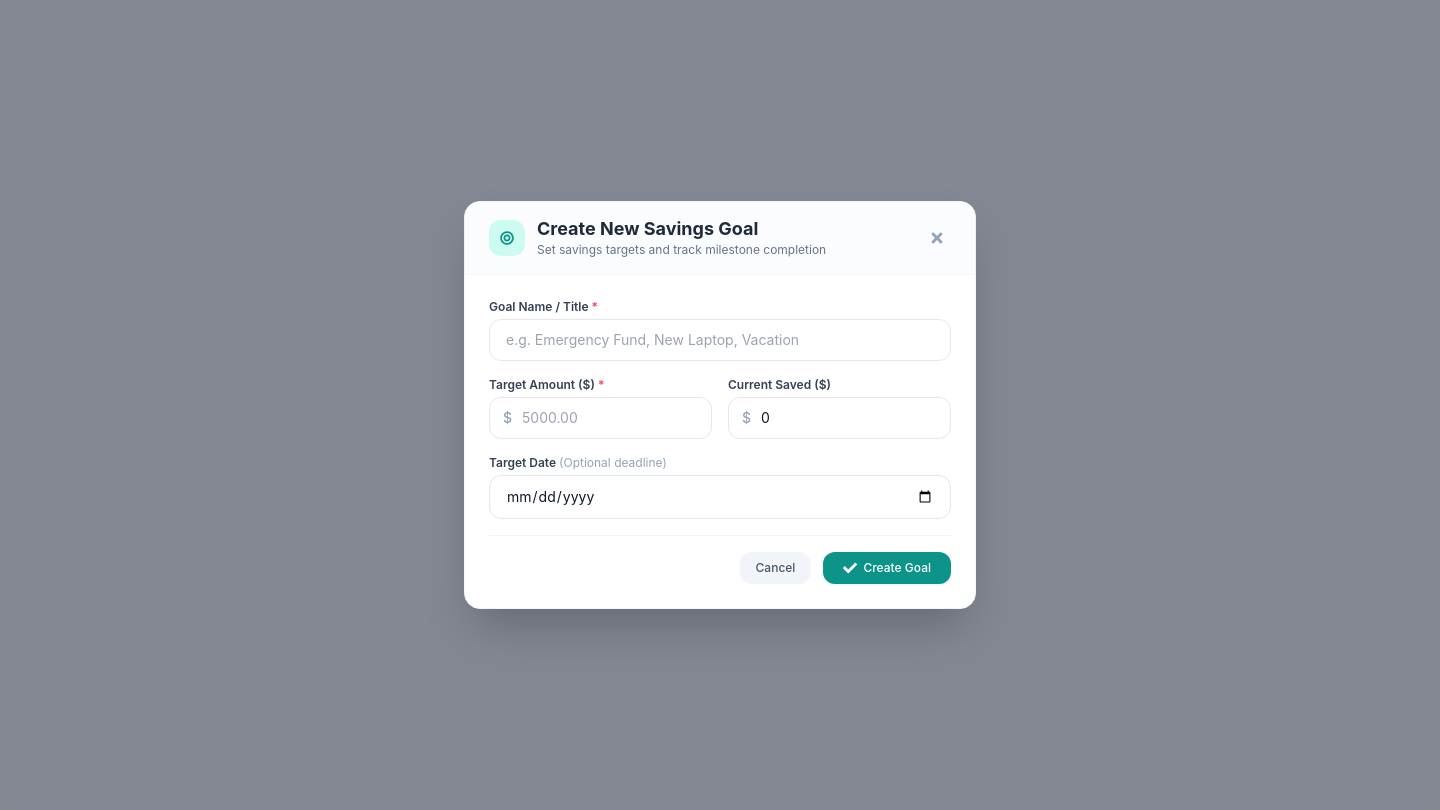
Test case: GoalModal Component › displays server error message when API call fails
The image size is (1440, 810).
Type "Duplicate Goal" into the field with test id "goal-title-input" at (720, 340), box [489,319,951,361]
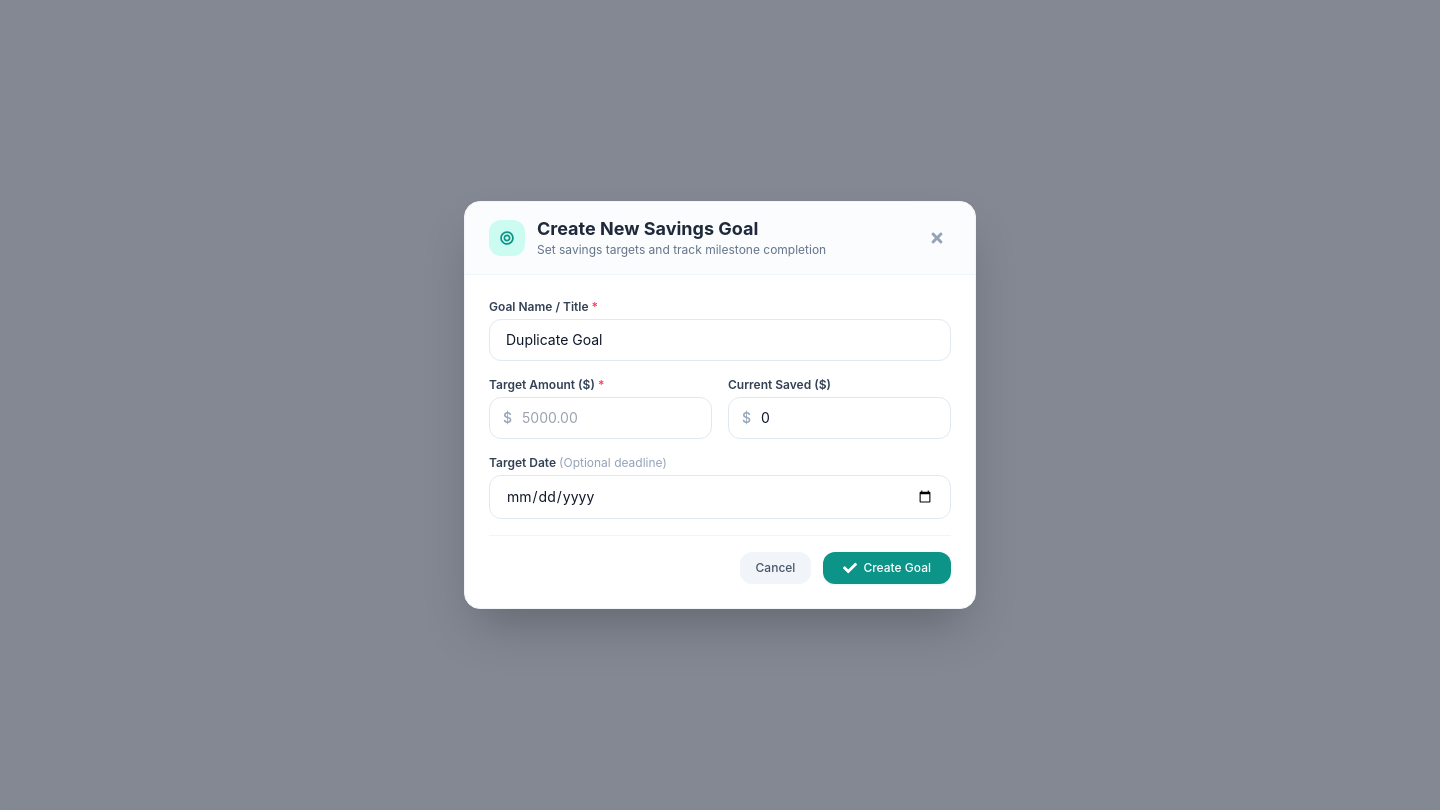
Type "1000" into the number field with test id "goal-target-amount-input" at (600, 418), box [489,397,712,439]
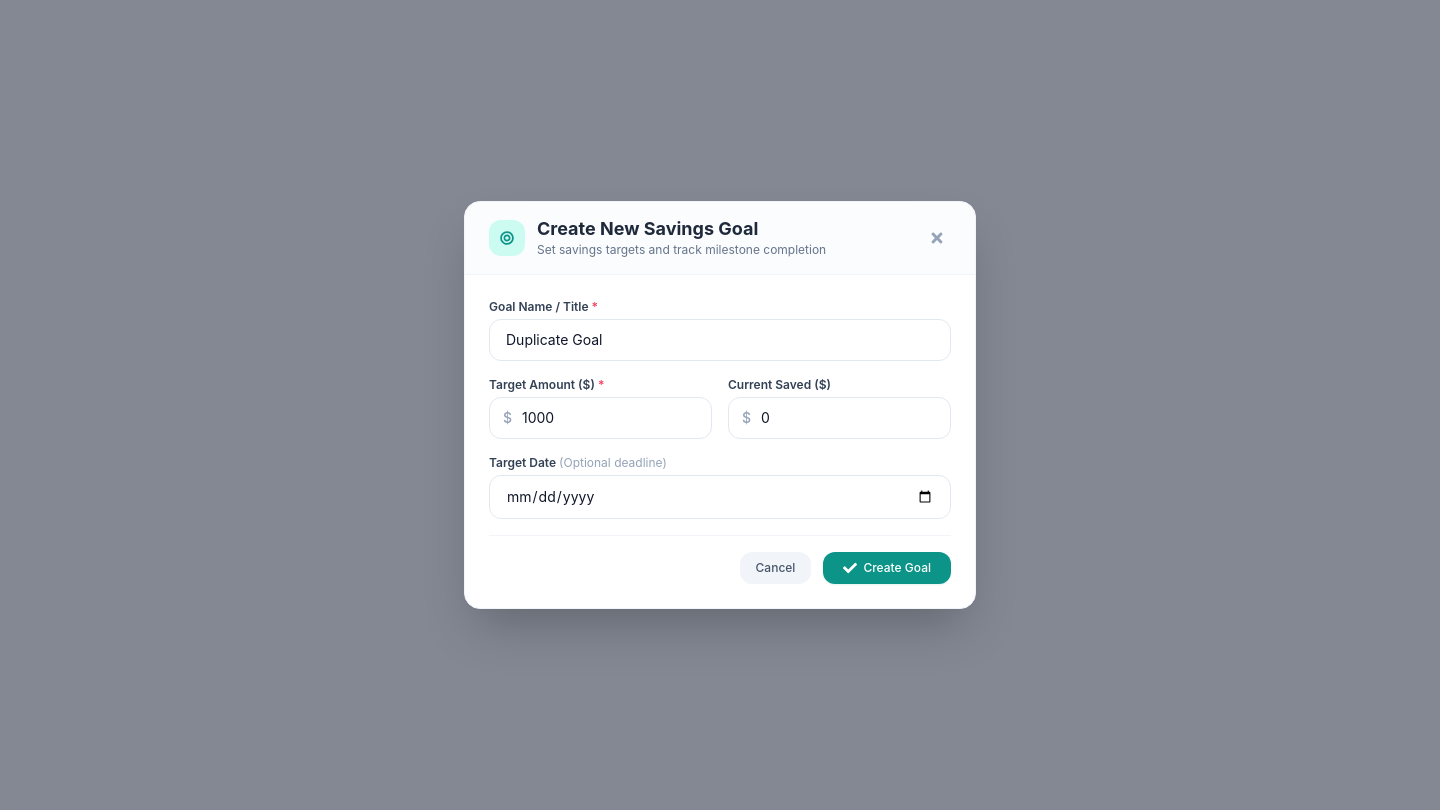
Click the button with test id "goal-modal-submit-button" at (887, 568), box [823,552,951,584]
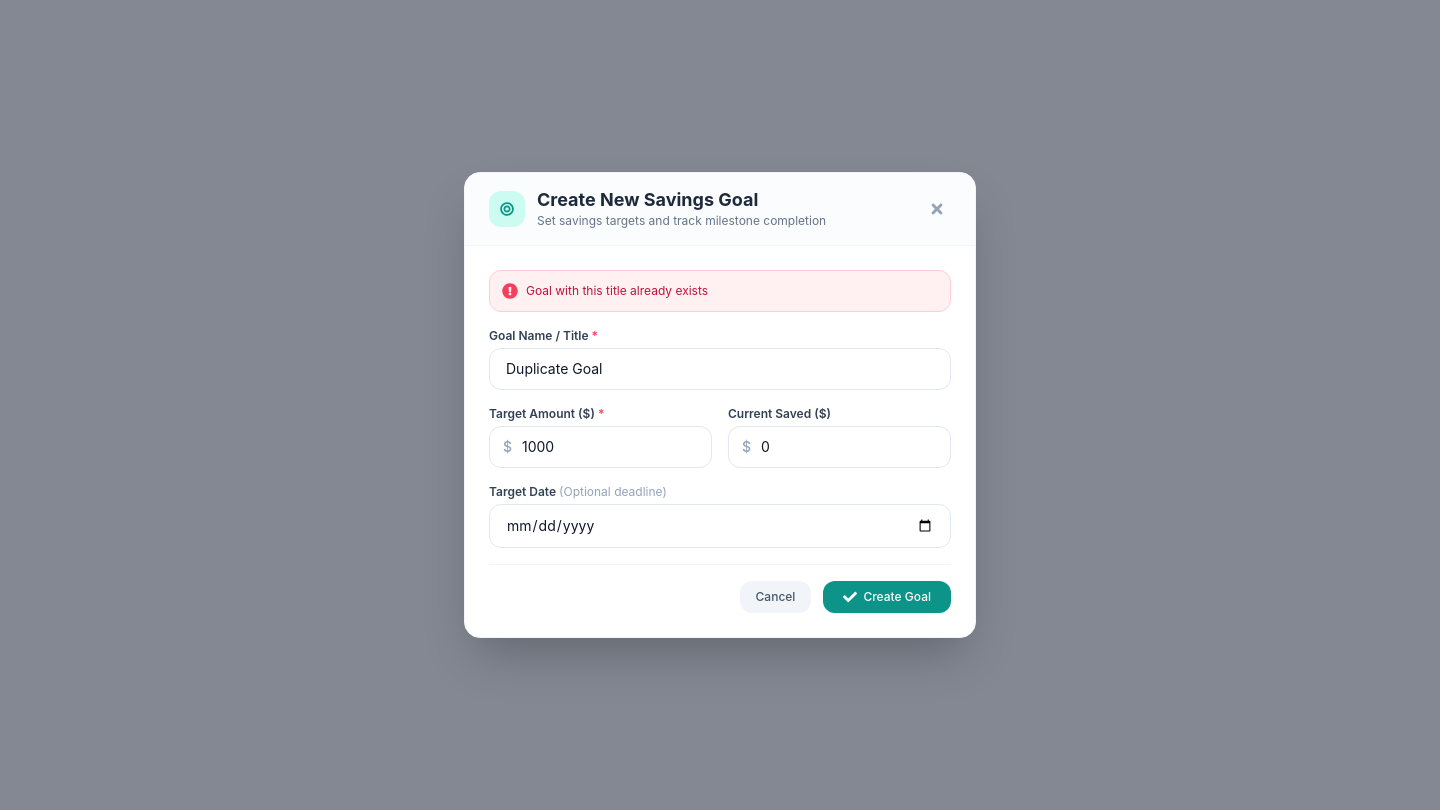
Expected: the element with test id "goal-modal-error" reads "Goal with this title already exists", [526,283,708,298]
